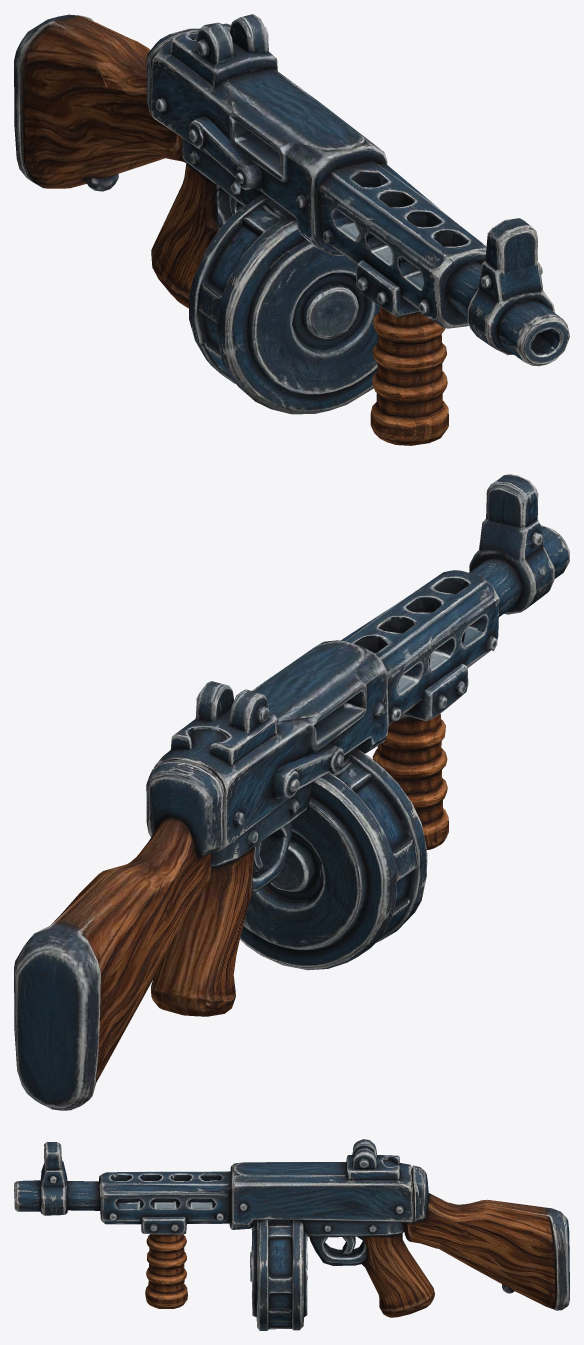
File: gun_tommy.glb
3 views of the same model, one above another, from view 1: azimuth 30°, elevation 25°; view 2: azimuth 150°, elevation 25°; view 3: azimuth 270°, elevation 25° (orthographic). The views are drawn at different scales.
Size of the model in its own units: 0.2931 by 0.4494 by 1.25.
Materials: 1 (1 with a texture image).
